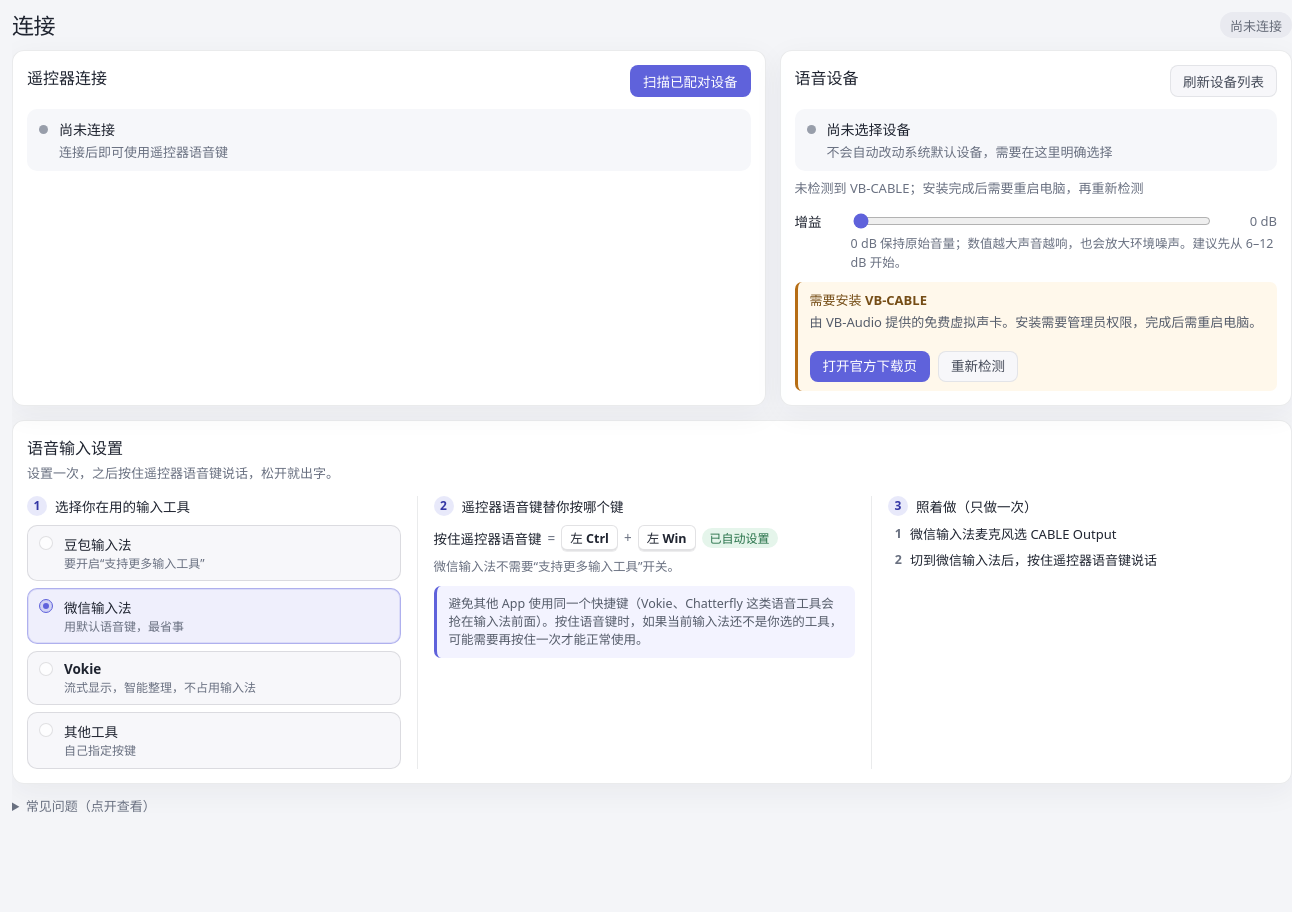
Test: VB-CABLE first-launch guidance › 工具选择保存失败时回退到原工具并显示错误
Click the button with class "tool-card" showing "豆包输入法 要开启“支持更多输入工具”" at (98, 545), box left=27, top=525, right=400, bottom=581
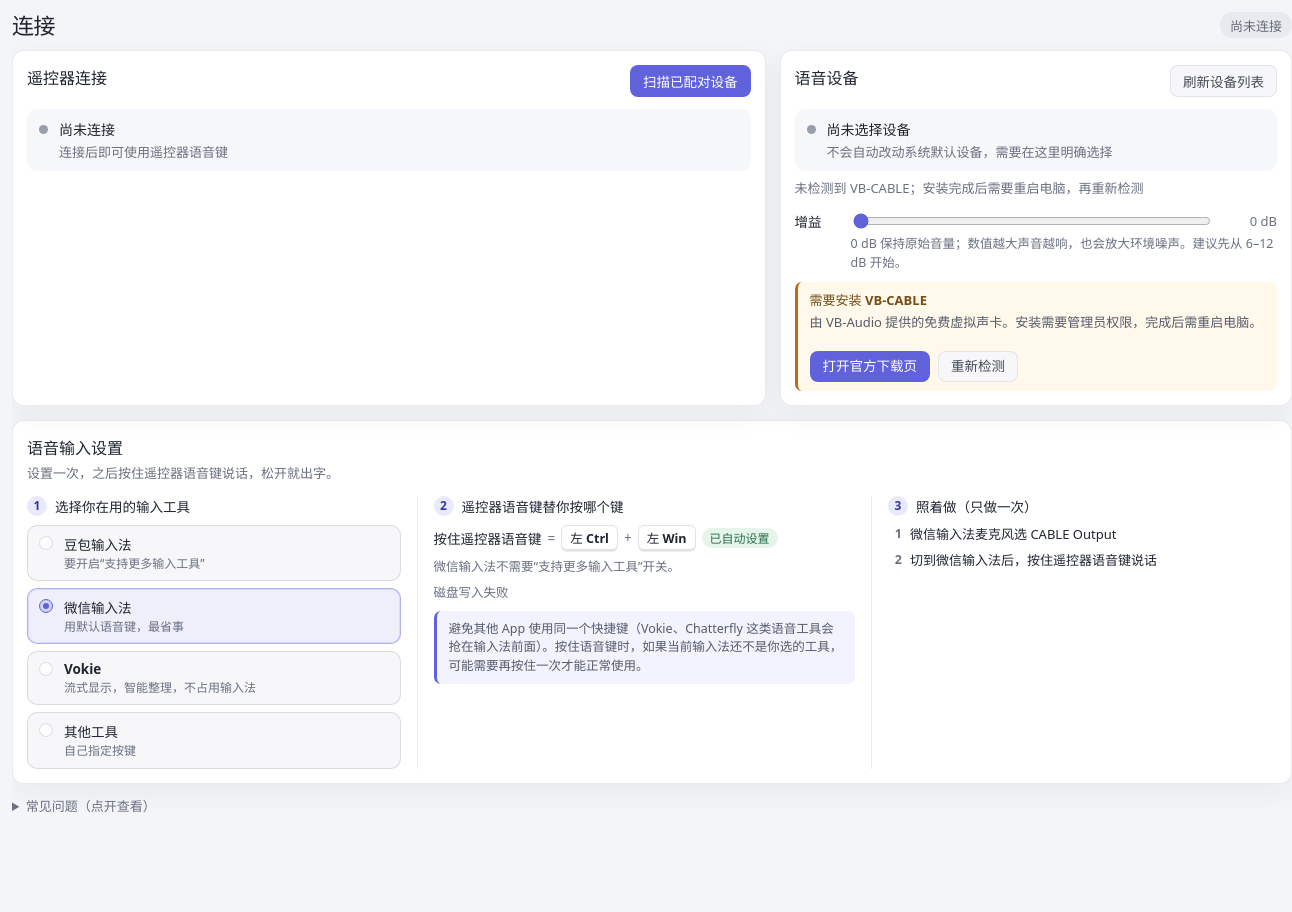
Expected: the text "微信输入法" is shown, left=64, top=599, right=132, bottom=617
Result: the text "磁盘写入失败" is shown at left=434, top=584, right=508, bottom=600
